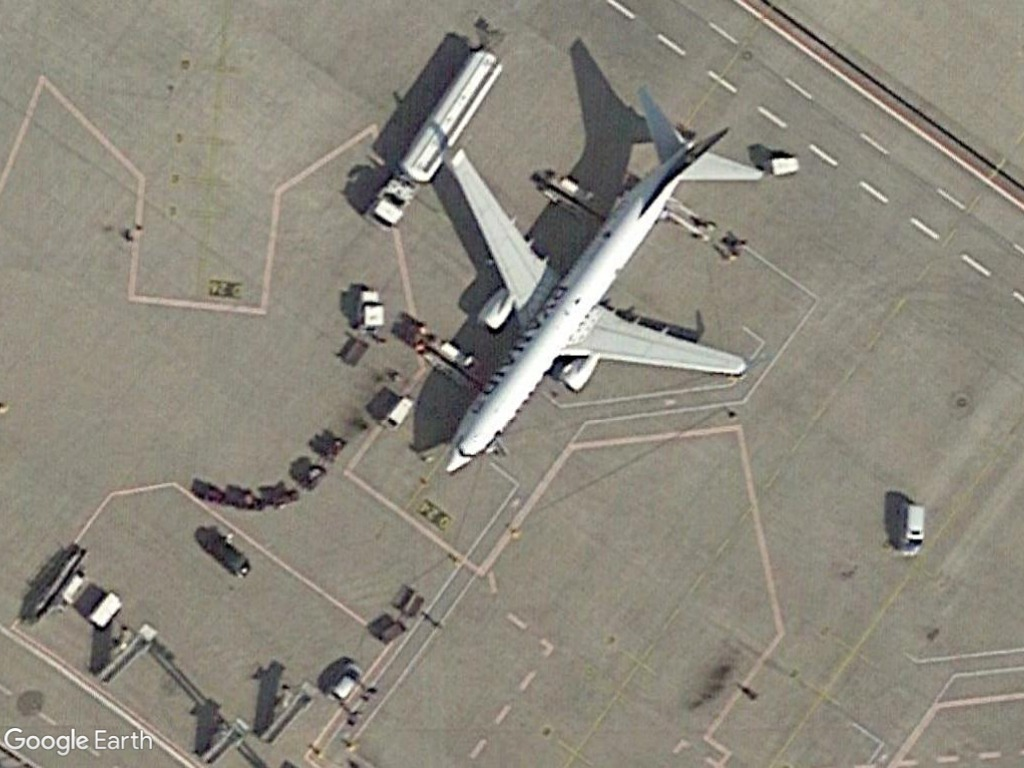airliner: (437, 84, 768, 479)
longvehicle: (398, 42, 509, 188)
van: (894, 500, 930, 562)
